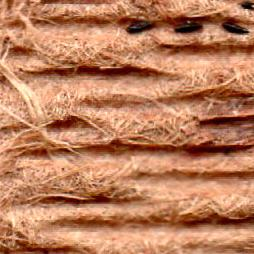egg: (175, 21, 201, 32), (127, 21, 152, 32), (223, 23, 248, 32), (241, 1, 253, 9)
